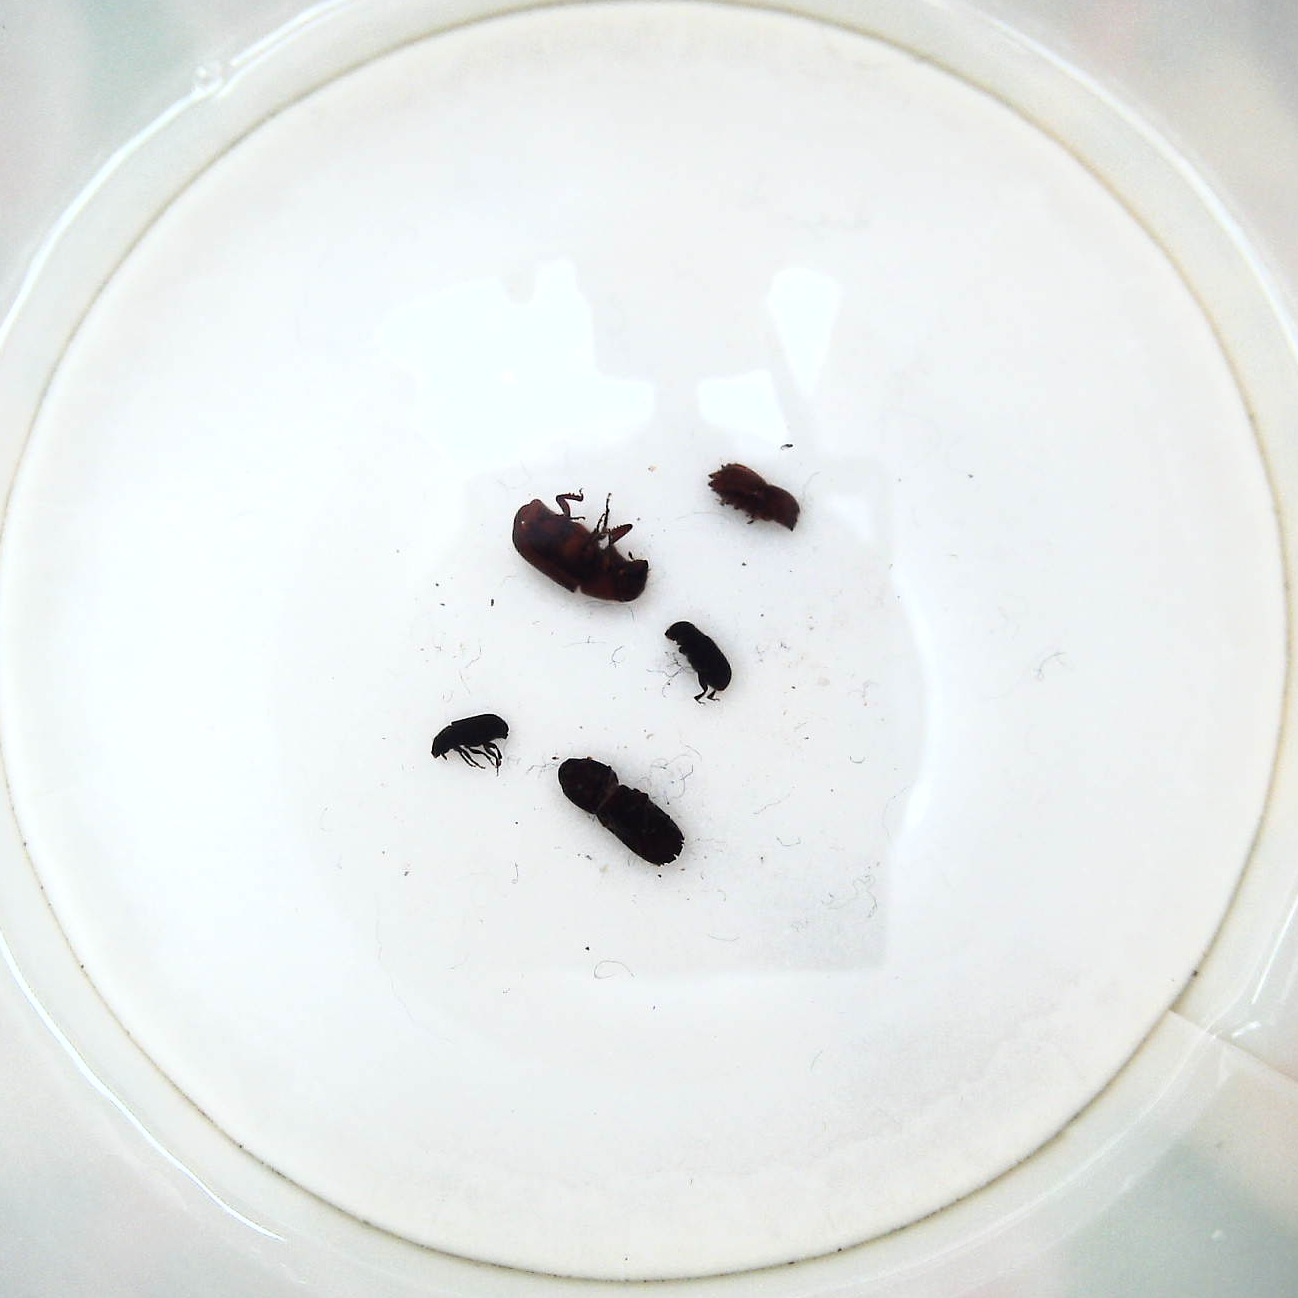Boerner: (554, 752, 688, 875)
Leconte: (510, 487, 654, 611)
armandi: (664, 616, 741, 704)
coleoptera: (426, 714, 513, 777)
linnaeus: (701, 460, 804, 533)
